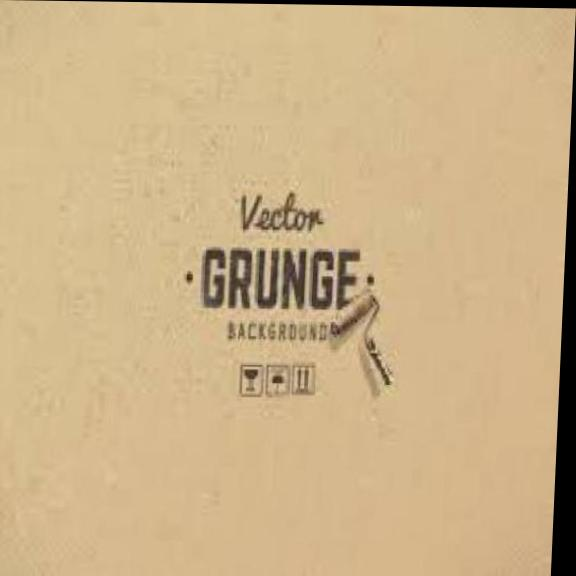Kertas: (0, 0, 573, 576)
